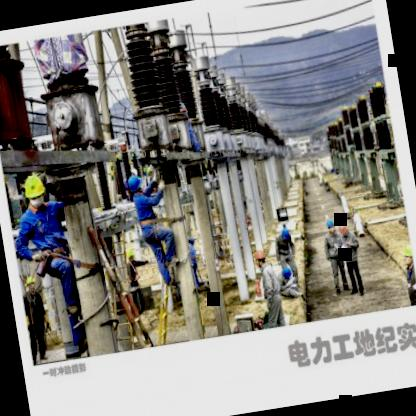helmet: (20, 168, 51, 216), (246, 241, 270, 272), (124, 168, 146, 200), (395, 239, 416, 271), (278, 261, 297, 282), (278, 223, 294, 245), (336, 219, 350, 242), (122, 246, 138, 266), (322, 214, 336, 235)
